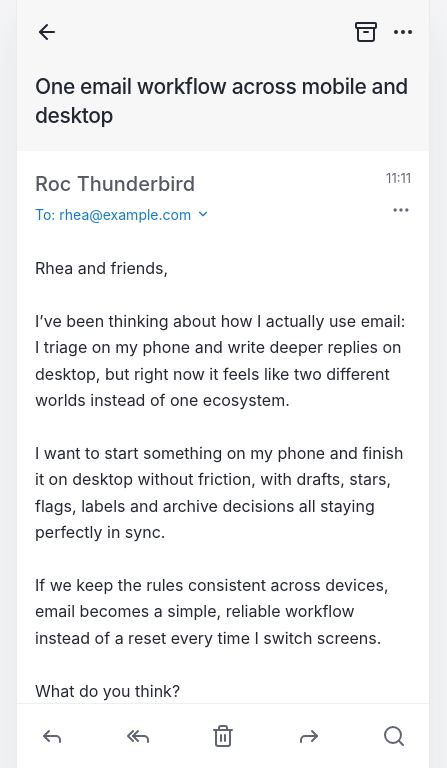
Scenario: mail prototype journeys › finds words inside a message
The image size is (447, 768).
Click the button named "Find in message" at (394, 736), box [372,714,416,758]
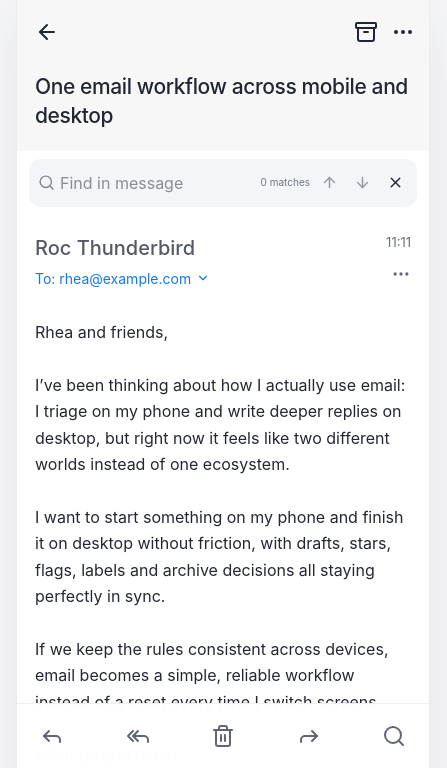
Type "desktop" into the field named "Find in this message" at (158, 183), box [60,161,256,205]
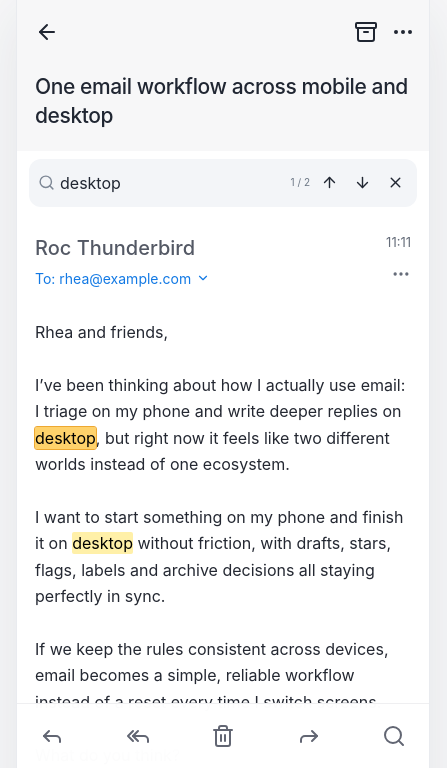
Expected: the text "1 / 2" is shown, [291,175,310,190]
Click the button named "Next match" at (362, 183), box [348,161,376,205]
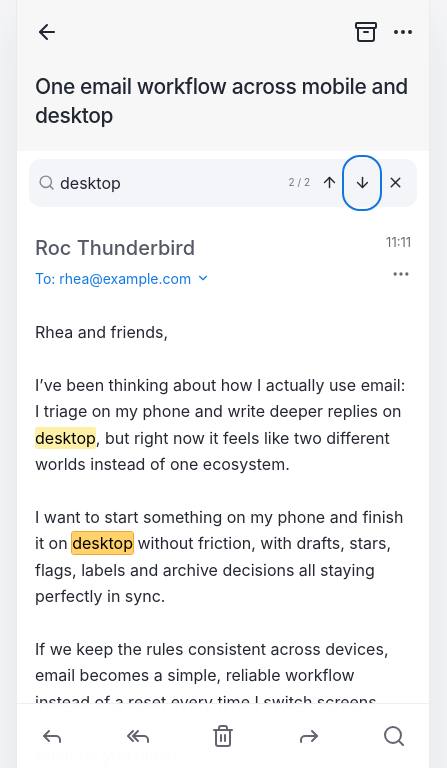
Expected: the text "2 / 2" is shown, [289,175,310,190]
